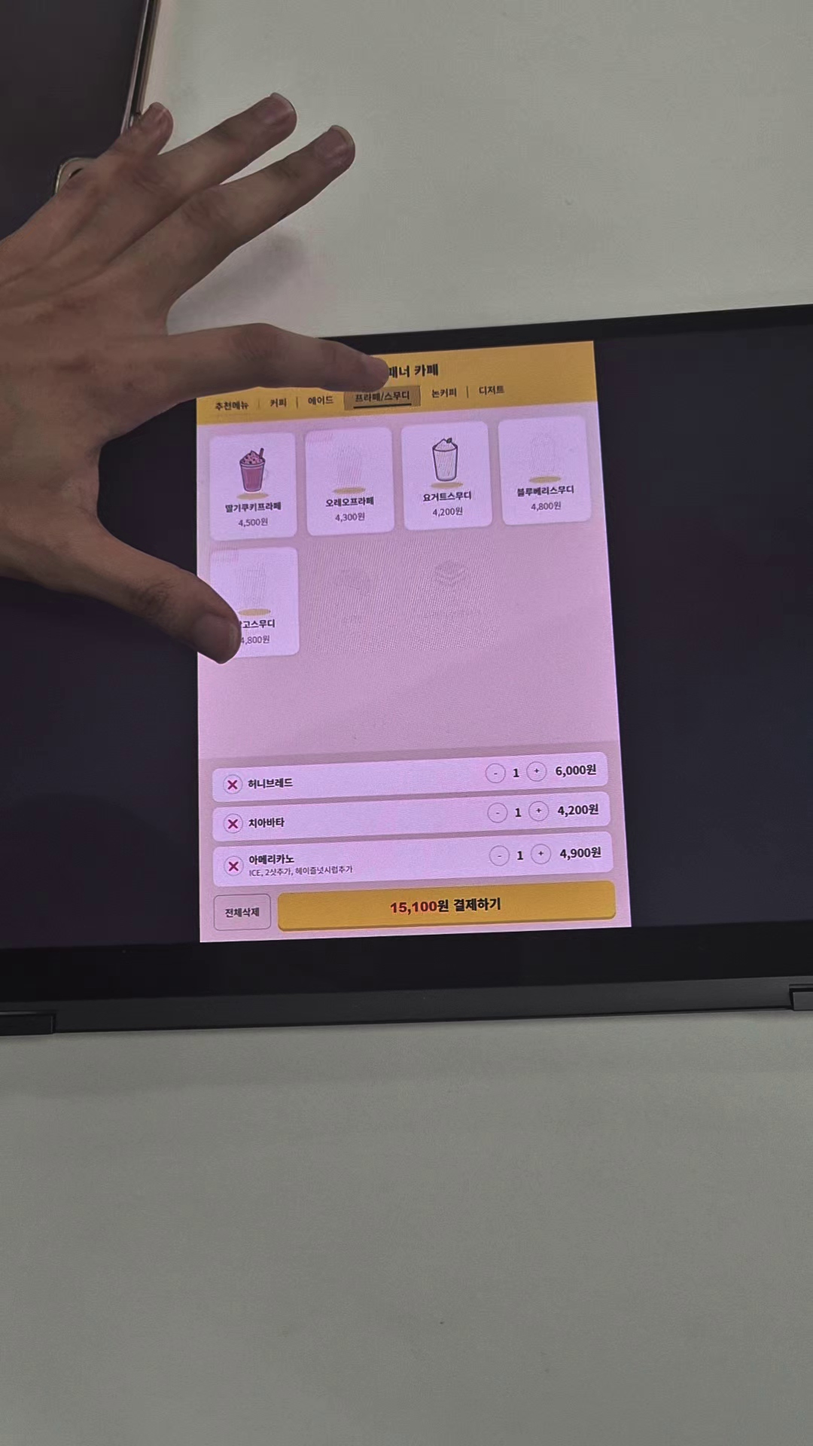action_button: (278, 882, 617, 930), (214, 895, 270, 930)
cart_item: (213, 833, 613, 888), (212, 751, 608, 802), (214, 790, 610, 841)
category_tab: (354, 389, 412, 405), (213, 399, 249, 414), (429, 386, 460, 401), (476, 384, 507, 399), (305, 394, 336, 409), (268, 397, 289, 409)
menu_back: (499, 414, 591, 525), (209, 547, 299, 660), (400, 420, 492, 530), (209, 432, 299, 541), (304, 426, 393, 536)
menu_name: (516, 484, 576, 500), (224, 500, 282, 514), (325, 496, 375, 510), (421, 491, 473, 503), (248, 853, 296, 866), (247, 777, 294, 790), (248, 816, 287, 830), (234, 618, 277, 630)
menu_price: (552, 762, 599, 780), (554, 802, 601, 820), (557, 844, 603, 862), (529, 500, 563, 512), (430, 506, 464, 518), (332, 511, 366, 523), (236, 517, 270, 529), (237, 635, 270, 645)
